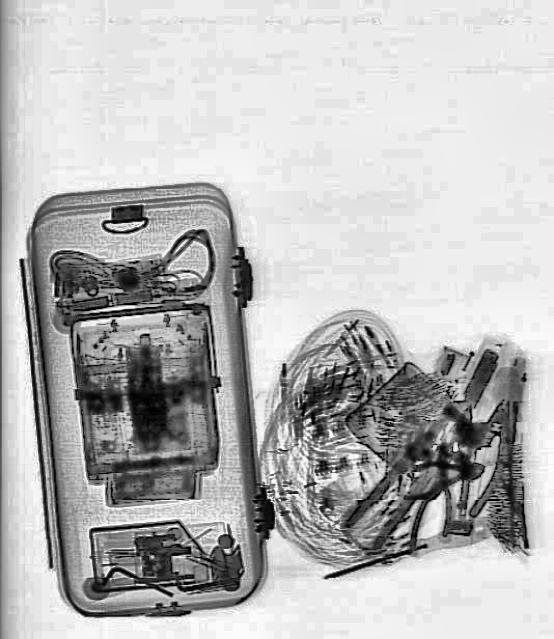Pliers: (446, 392, 526, 526), (406, 439, 463, 551), (400, 450, 488, 504)
